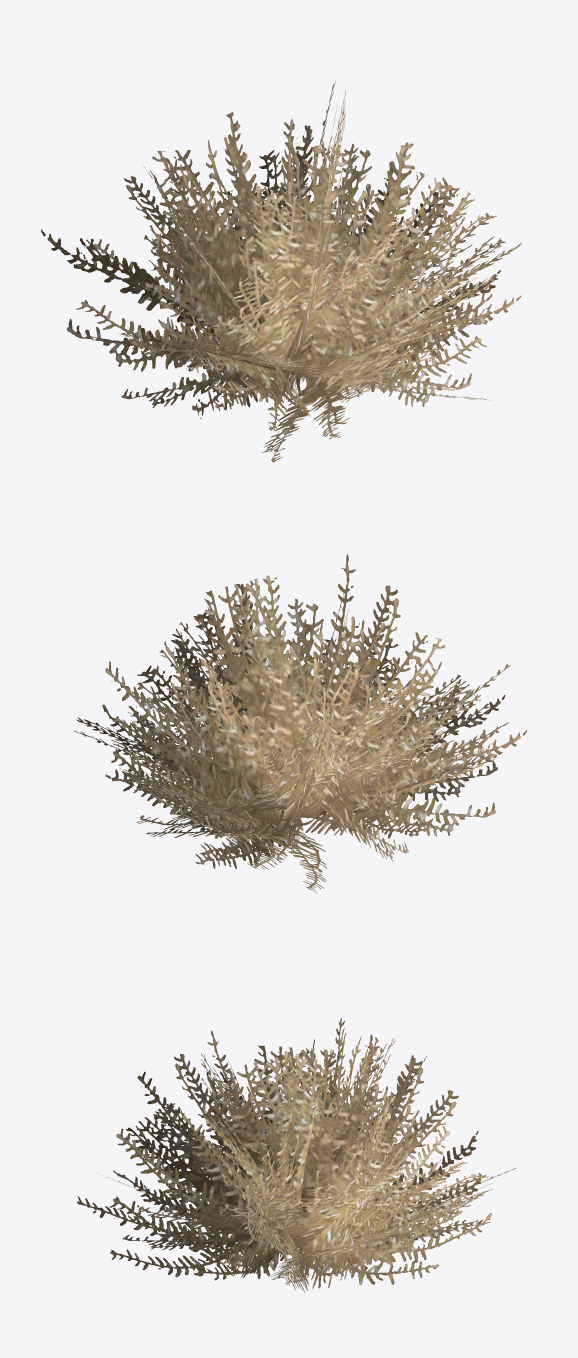
The model's file is shrb_dsrt_brown_l0.fbx.
3 renders of one model, top to bottom at view 1: azimuth 30°, elevation 25°; view 2: azimuth 150°, elevation 25°; view 3: azimuth 270°, elevation 25°, orthographic. The views are drawn at different scales.
Parts seen in each view (by area): view 1: mesh_node; view 2: mesh_node; view 3: mesh_node.
Part boxes in pixels (x1=…): mesh_node: x1=41, y1=81, x2=521, y2=462; mesh_node: x1=74, y1=554, x2=527, y2=892; mesh_node: x1=77, y1=1018, x2=516, y2=1292.
Size of the model in its own units: 3.01 by 1.58 by 3.18.
